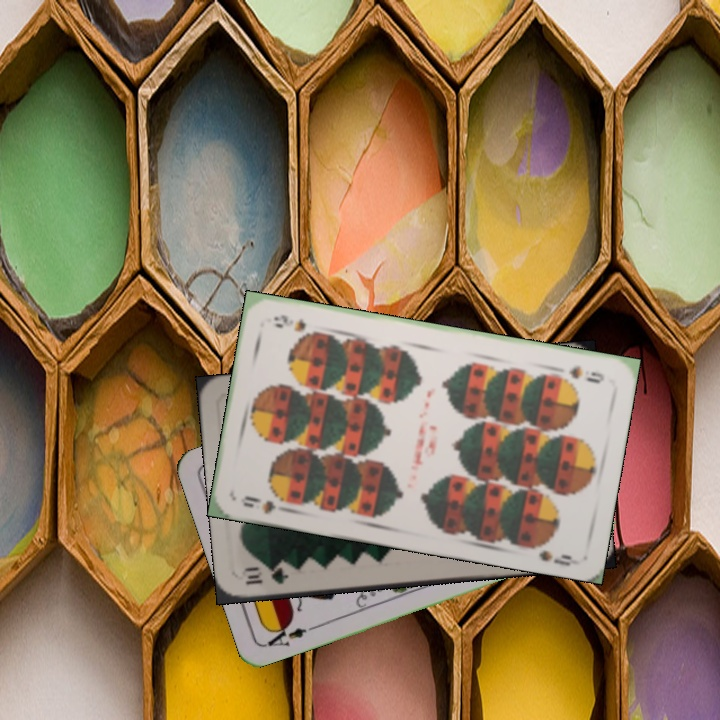EA: (262, 619, 309, 651)
G10: (241, 563, 291, 587)
S9: (238, 491, 294, 516), (565, 361, 607, 386)
